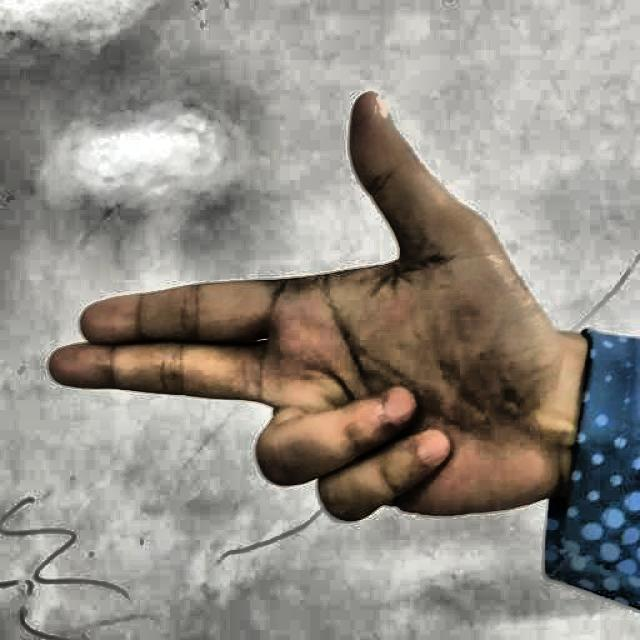Jha: (34, 57, 608, 610)
